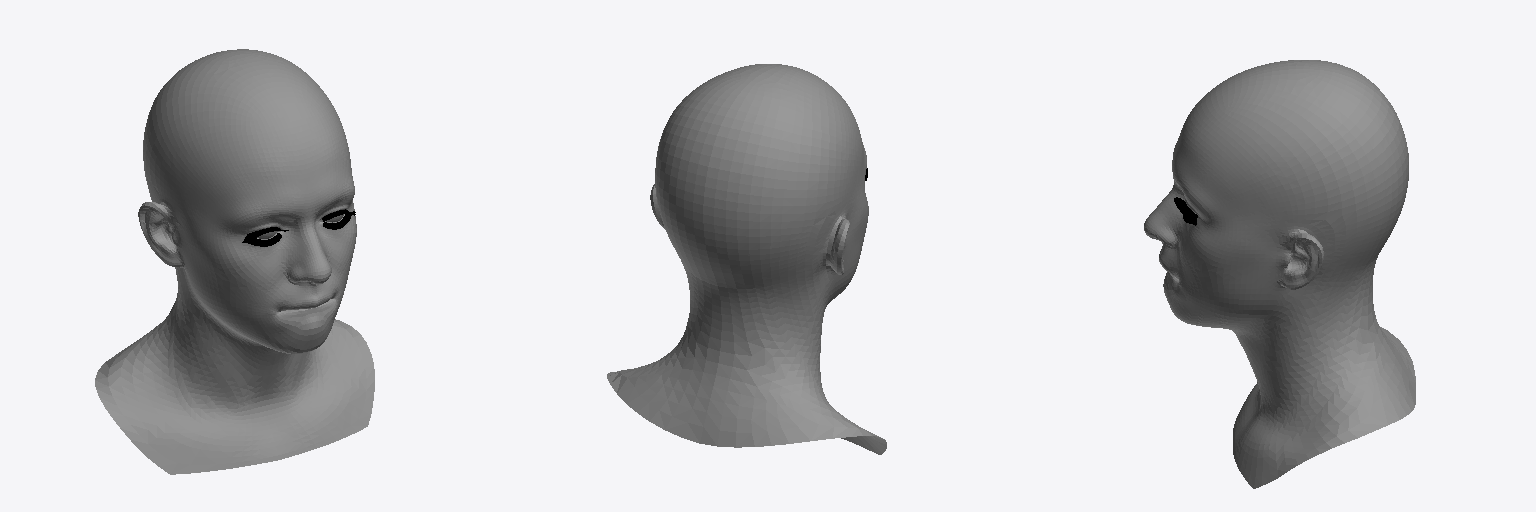
Rendered from mouthRollLower.obj.
The picture shows the model from 3 angles: view 1: azimuth 30°, elevation 25°; view 2: azimuth 150°, elevation 25°; view 3: azimuth 270°, elevation 25°; orthographic projection.
Size of the model in its own units: 24.83 by 33.81 by 22.32.